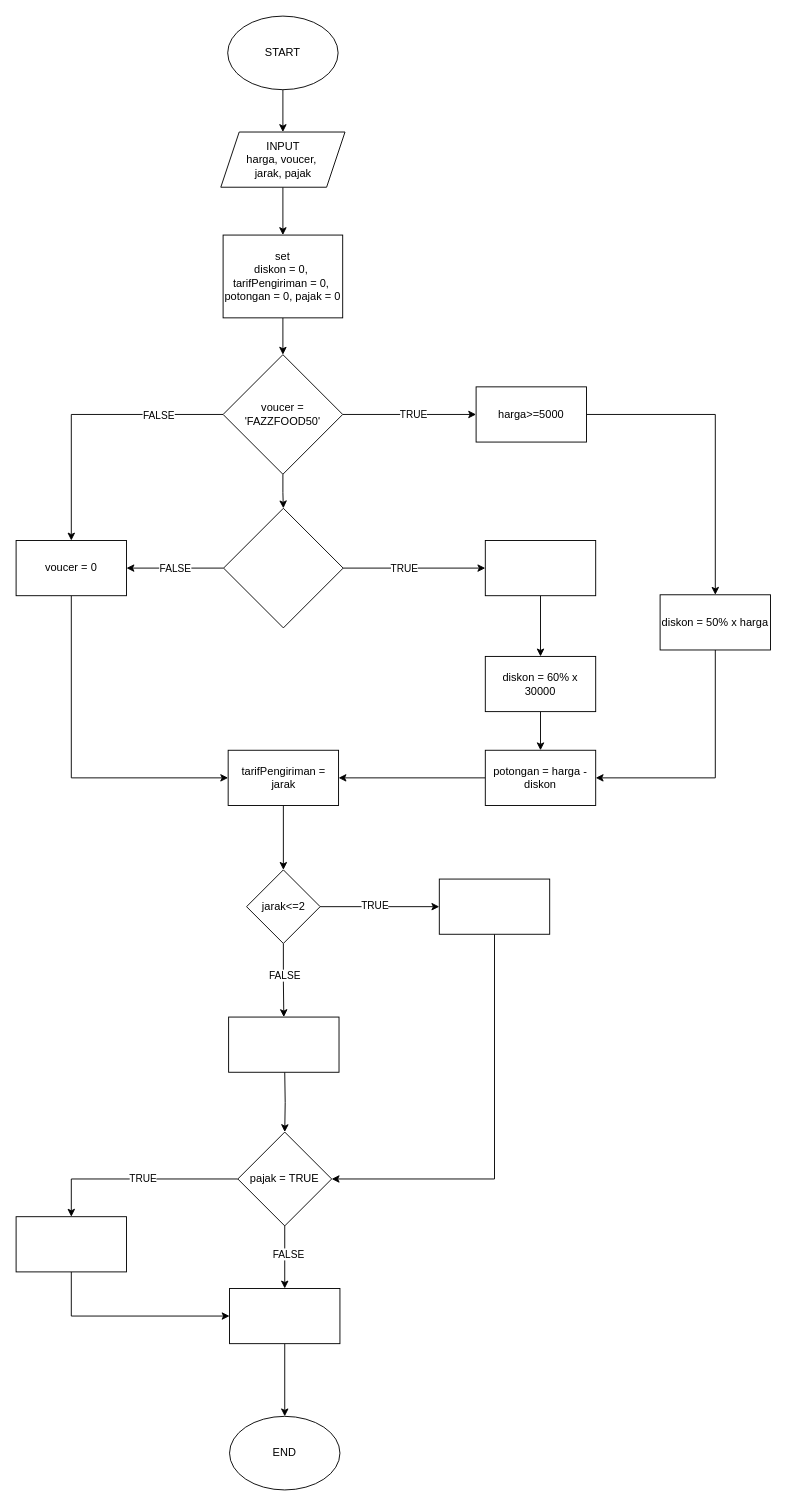
This 787x1506 diagram has some shape labels left out. The shapes that lost their labels are listed below. From the top down, each one's centre as x and y in pixels, then its label:
At (283,567): "voucer = 'DITRAKTIR60'".
At (540,568): "harga >=25000".
At (494,906): "tarifPengiriman = 5000".
At (283,1044): "tarifPengiriman = 5000 + (jarak -2) x 3000".
At (70,1244): "pajak = 5%".
At (284,1316): "subtotal = harga - potongan + tarif pengiriman + pajak".
